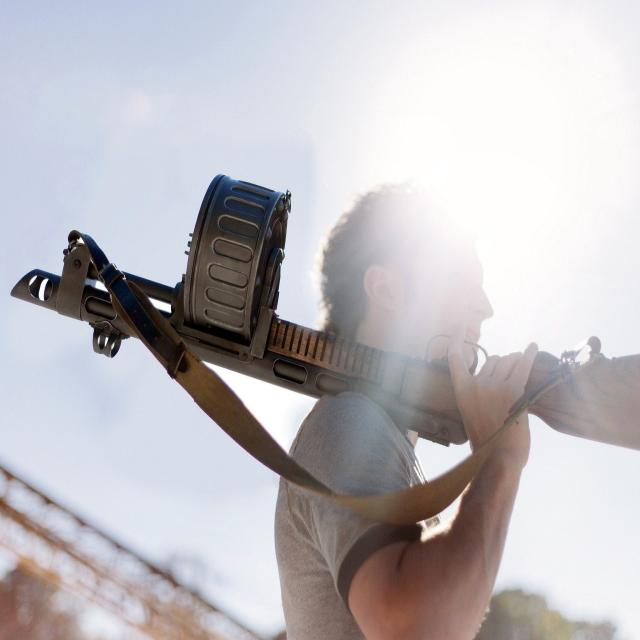firearm: (13, 172, 640, 452)
